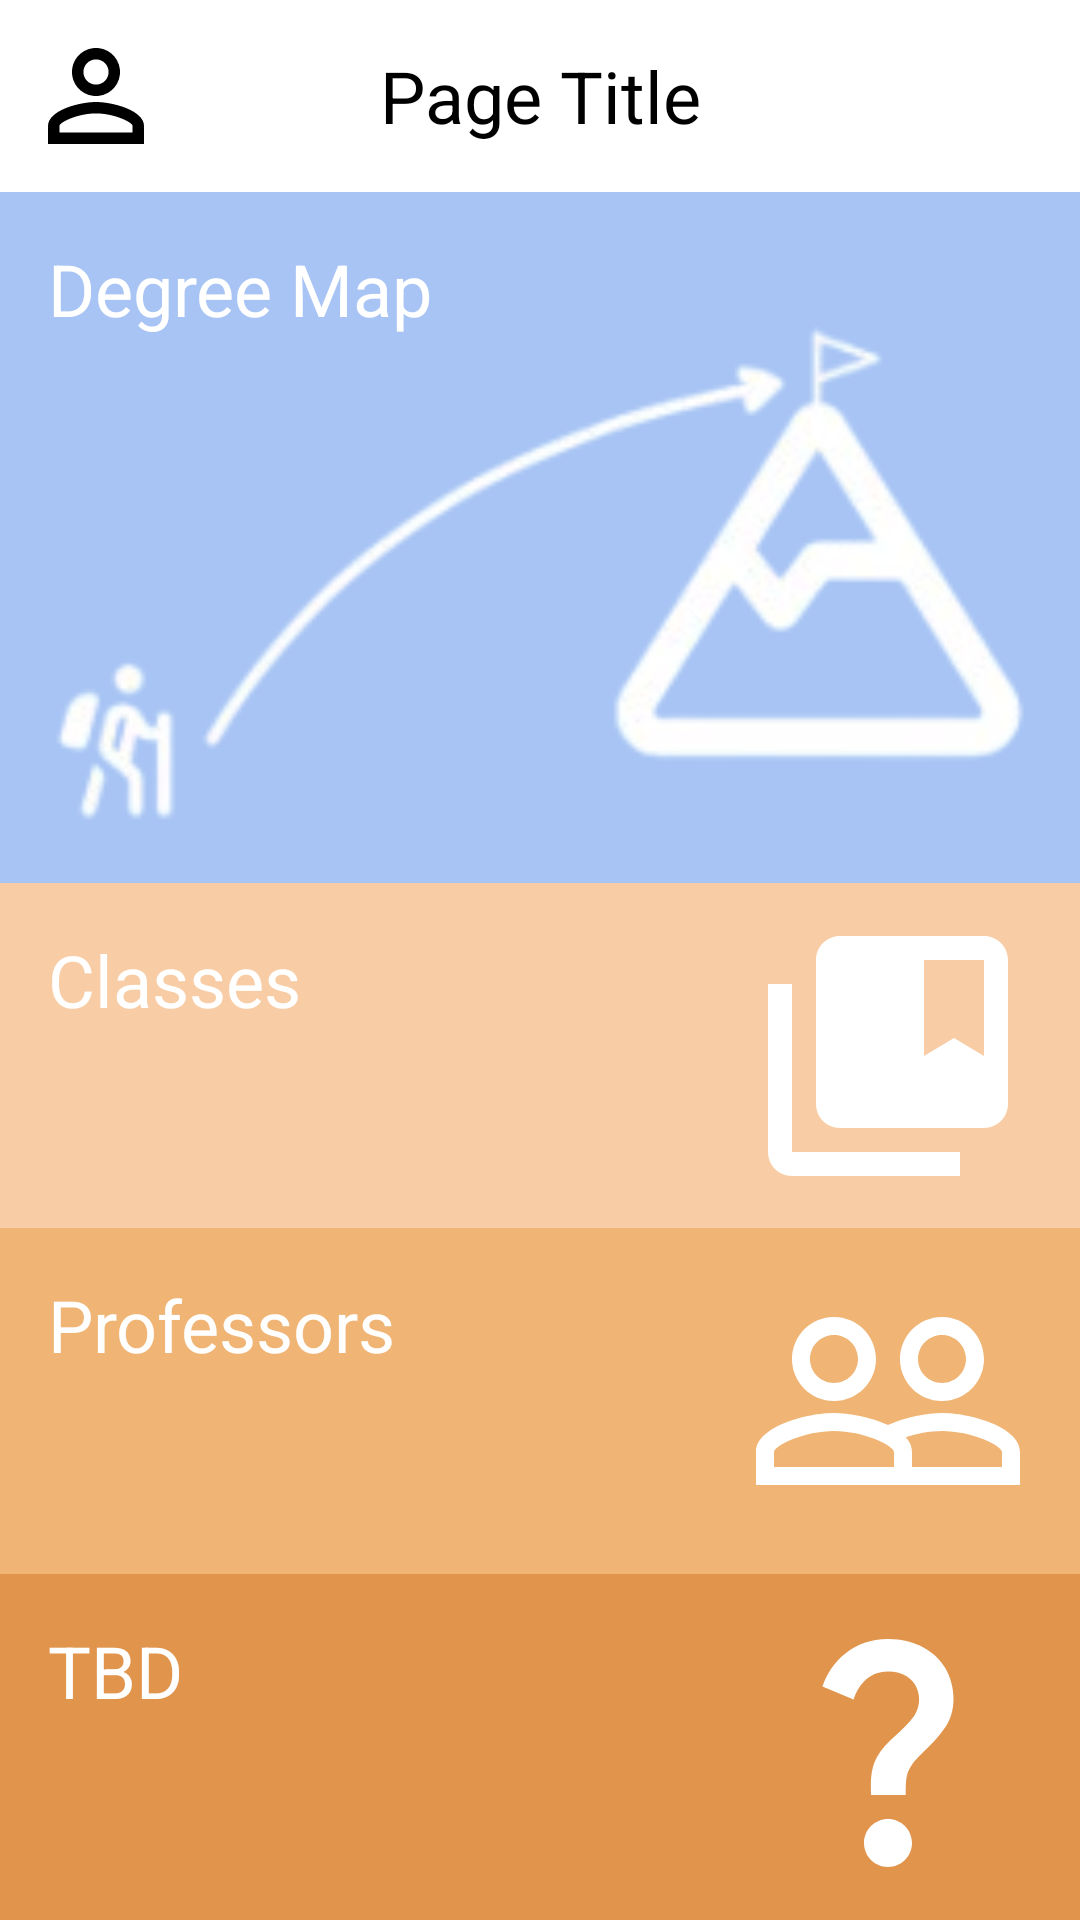

Named icons in this screenshot (1080px×1920px) and their bounding boxes, [x1,y1,x2,y2]:
Profile: [48,48,144,144]
